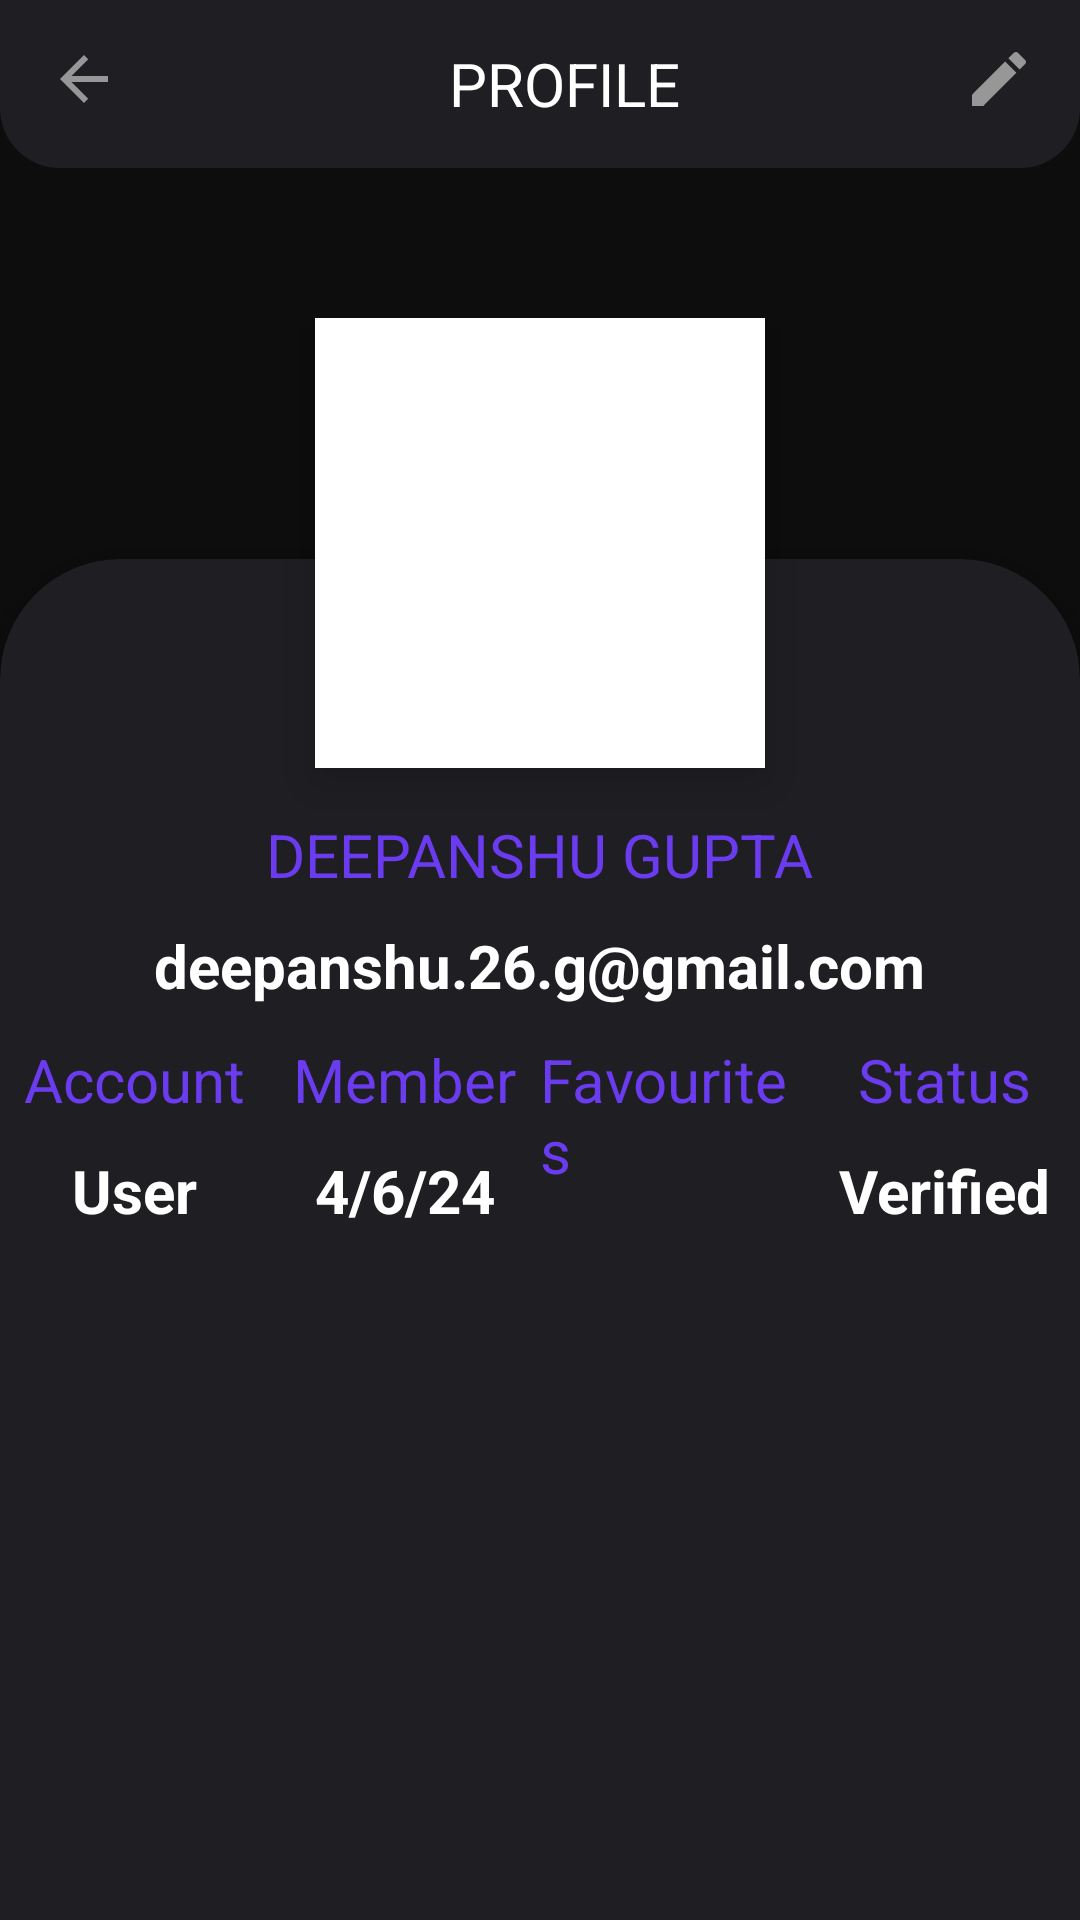

Named icons in this screenshot (1080x1920) and their centers, (x=x, y=y):
arrow back: (x=84, y=79)
edit: (x=999, y=79)
